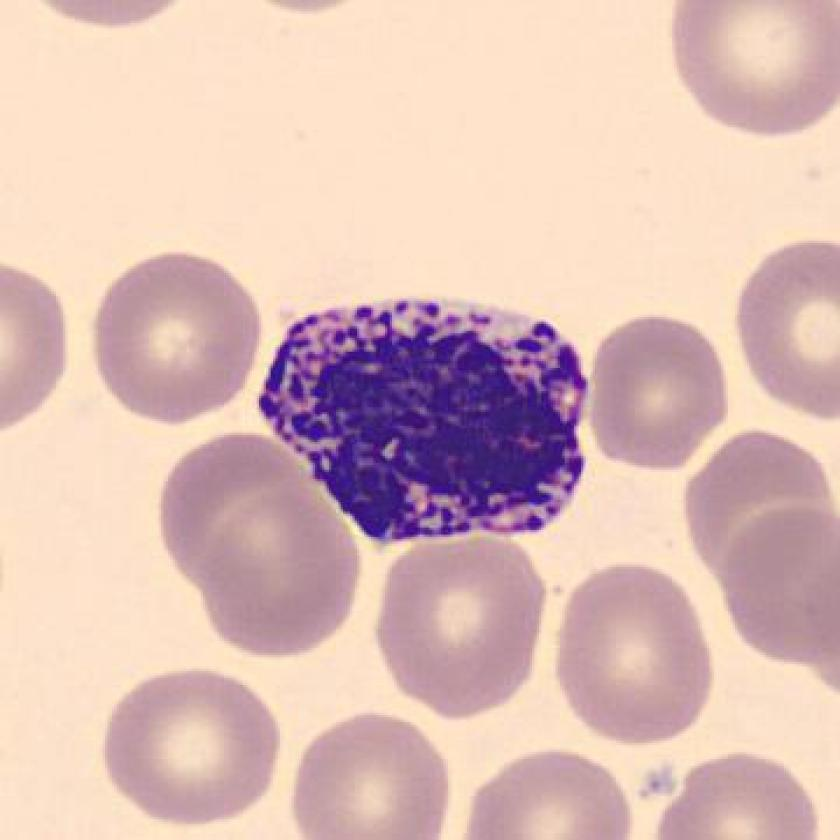basophil: (251, 293, 596, 552)
